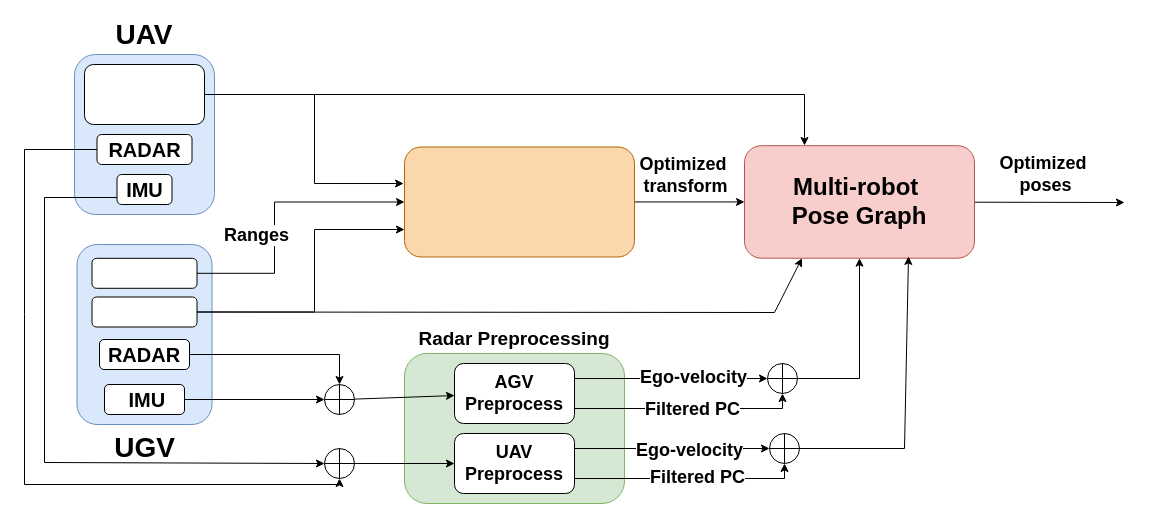
Some shapes in this 1150 by 521 pixel diagram are drawn without their labels. Each missing label, with the centre of its shape:
Eliko UWB: the point at 144,272
Odometry: the point at 144,311
Relative Transform Estimation: the point at 519,201
Velocity Commands: the point at 144,94
